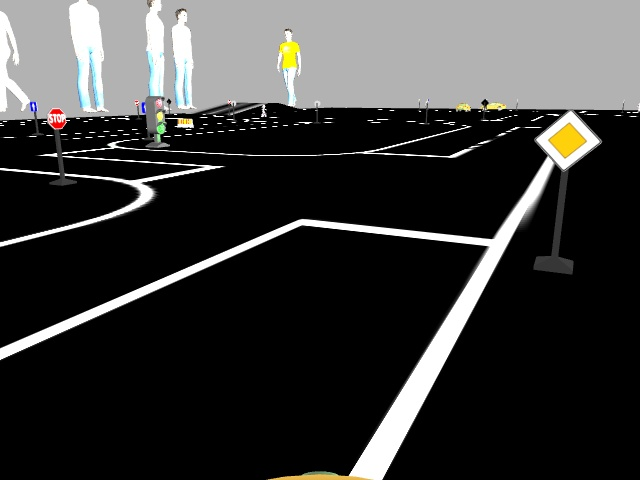ClosedRoadStand: (177, 117, 194, 129)
Priority: (536, 111, 598, 169)
Stop: (46, 108, 64, 128)
TrafficLight: (144, 96, 164, 135)
